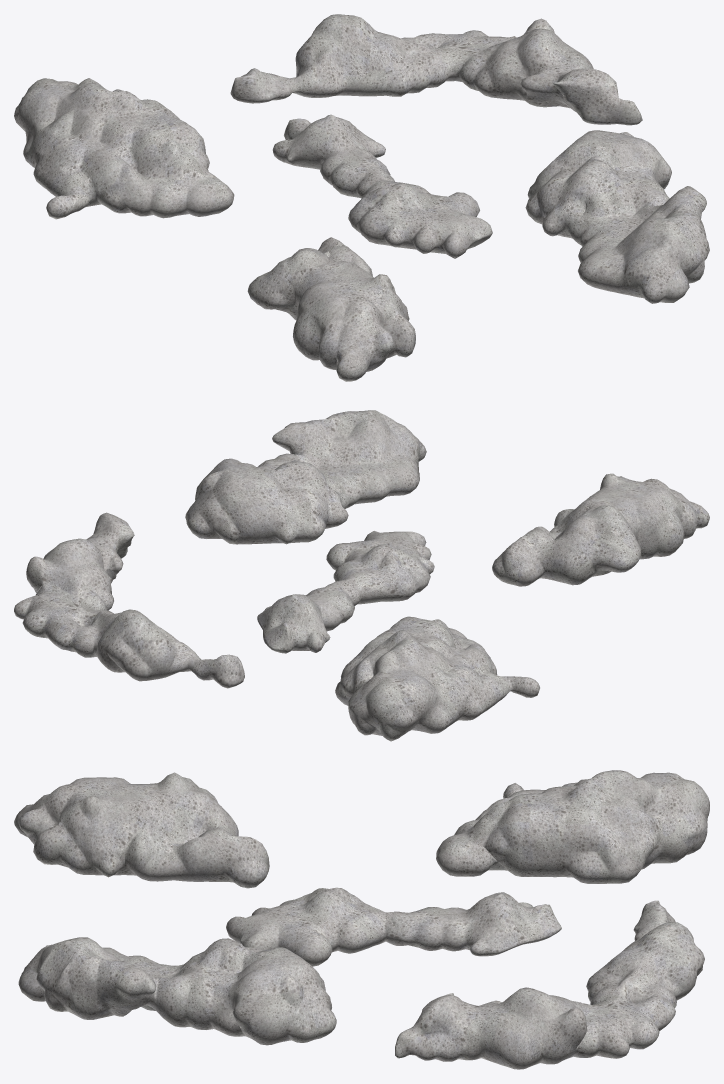
File: foam_pollution.glb
3 renders of one model, top to bottom at view 1: azimuth 30°, elevation 25°; view 2: azimuth 150°, elevation 25°; view 3: azimuth 270°, elevation 25°, orthographic. The views are drawn at different scales.
Parts seen in each view (by area): view 1: Object_2, Object_3; view 2: Object_2, Object_3; view 3: Object_2, Object_3.
Boxes of the visible parts, bbox=[...] form: Object_2: bbox=[14, 14, 709, 303]; Object_3: bbox=[247, 114, 492, 381]; Object_2: bbox=[14, 410, 539, 741]; Object_3: bbox=[257, 473, 709, 653]; Object_2: bbox=[18, 770, 709, 1069]; Object_3: bbox=[14, 772, 561, 966].
Size of the model in its own units: 0.2175 by 0.0319 by 0.235.
1 material, 1 textured.
